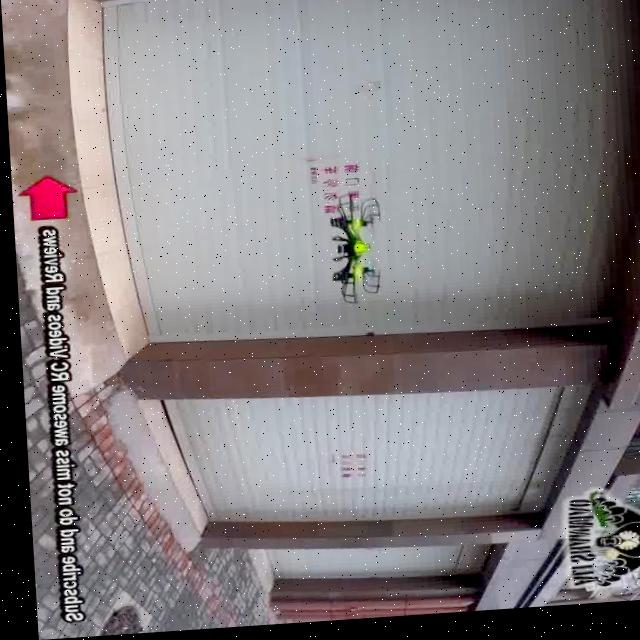drone: (319, 201, 391, 307)
